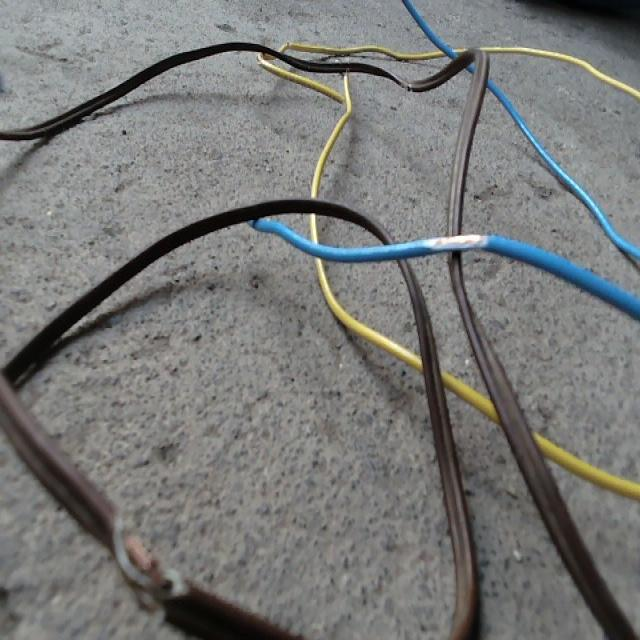-: (109, 514, 184, 618), (423, 232, 486, 251)
